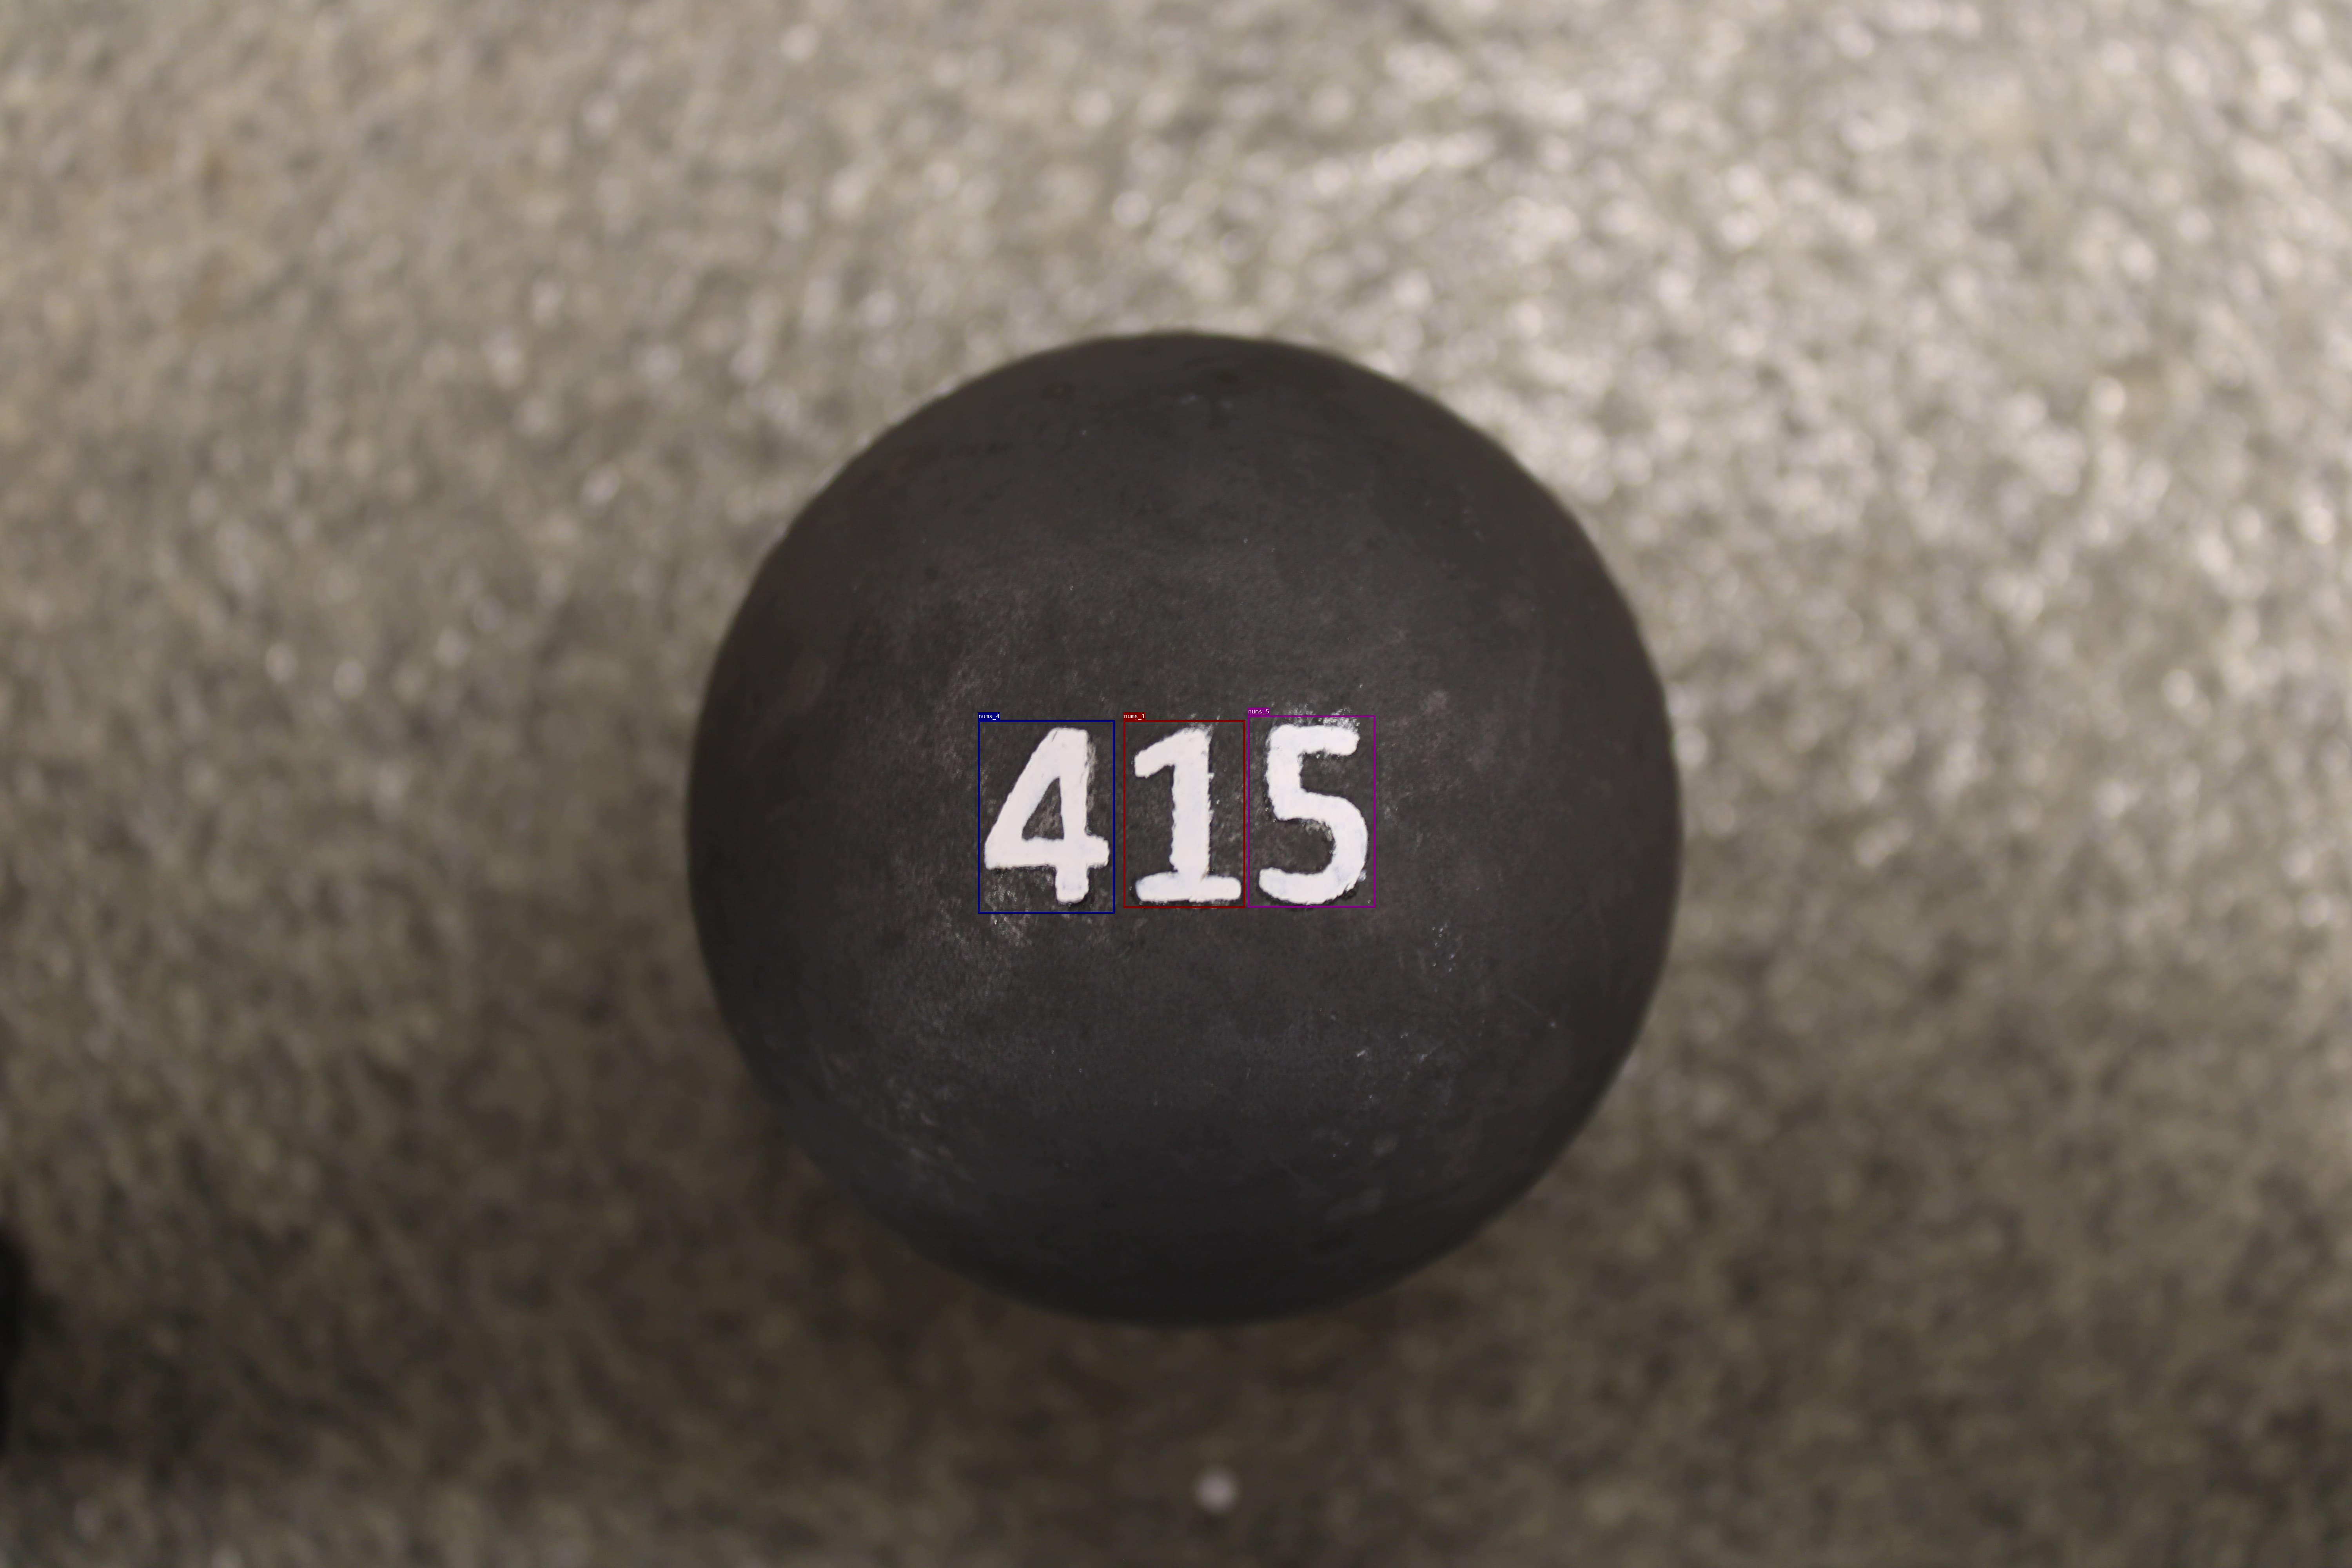nums_1: (1123, 719, 1244, 908)
nums_4: (978, 719, 1115, 914)
nums_5: (1248, 716, 1375, 908)
